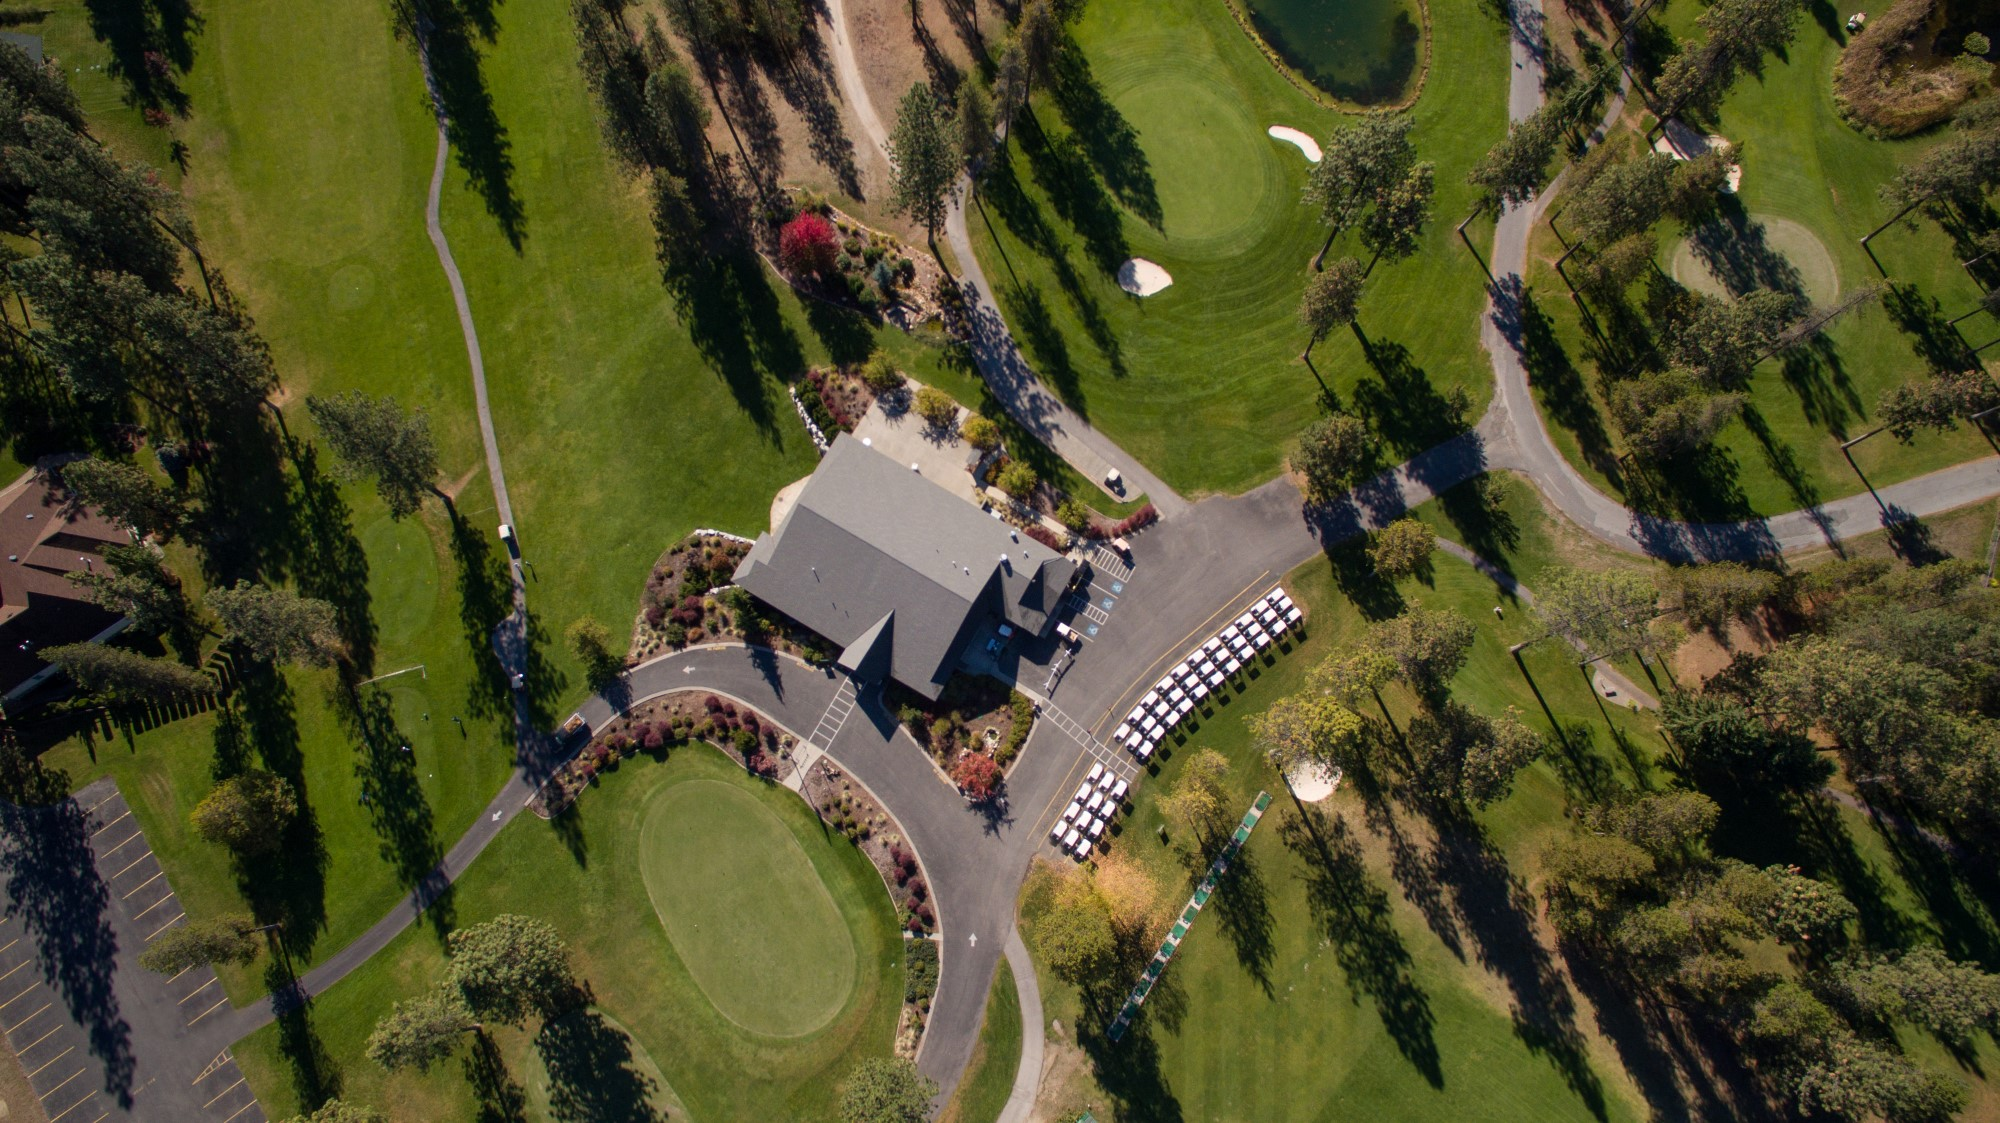build: (731, 423, 1082, 711), (1, 434, 155, 739)
